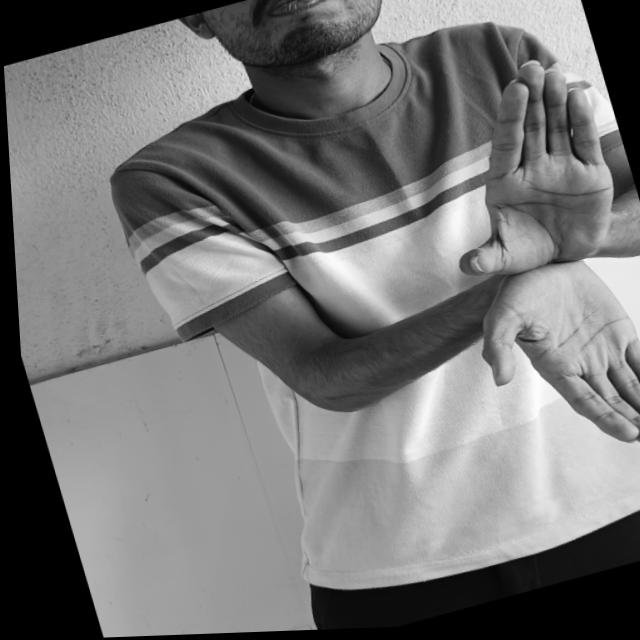Morning: (380, 44, 640, 501)
